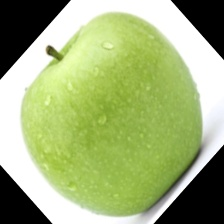apple: (0, 25, 193, 178)
